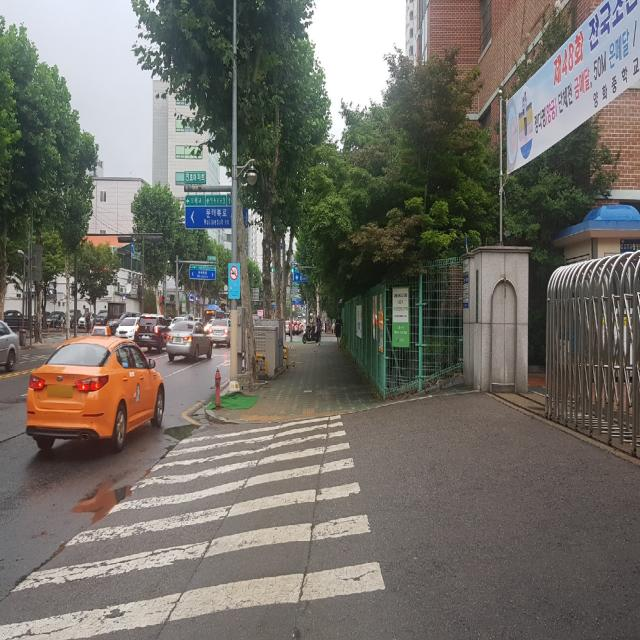횡단보도: (0, 414, 386, 640)
